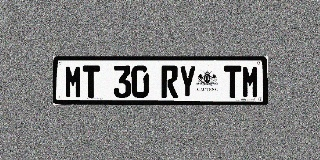0: (131, 65, 149, 98)
3: (114, 65, 131, 98)
M: (65, 65, 82, 98), (242, 65, 259, 98)
R: (161, 65, 178, 98)
T: (83, 65, 100, 98), (224, 65, 241, 98)
Y: (179, 65, 196, 98)
